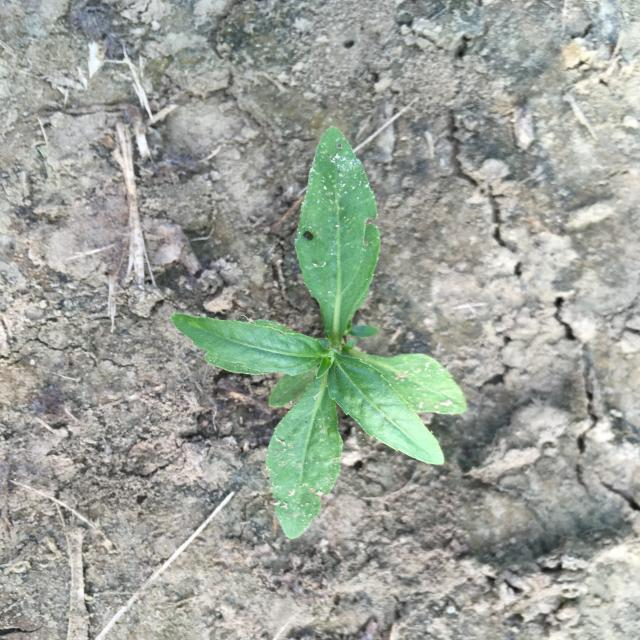Eclipta: (171, 126, 467, 539)
